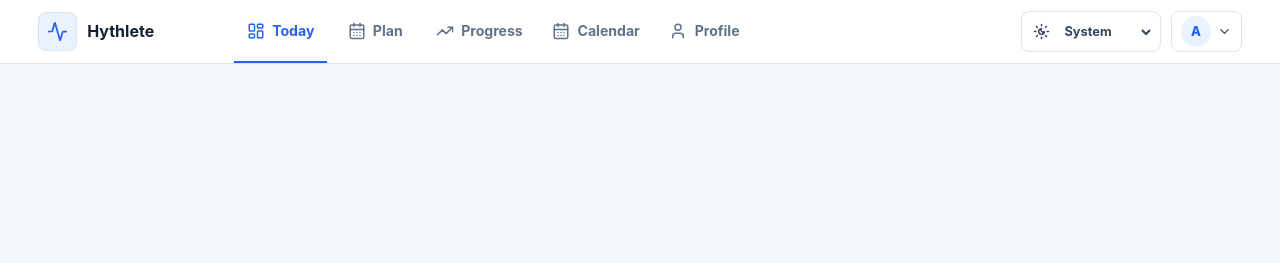
Test case: DashboardTopbar › exposes the four primary destinations and an accessible account menu
Click the button named "Open account menu" at (1206, 32), box [1171,11,1242,52]
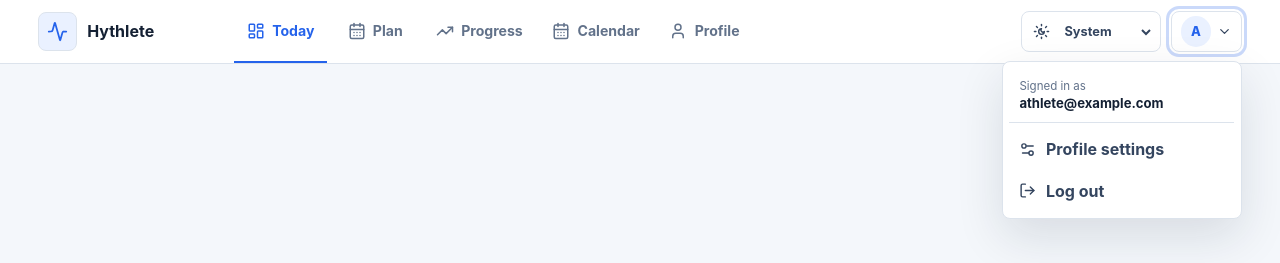
Expected: the text "athlete@example.com" is shown, [1019,95,1164,111]
Expected: the menu item "Profile settings" is shown, [1019,139,1164,159]
Expected: the menu item "Log out" is shown, [1009,170,1234,211]
